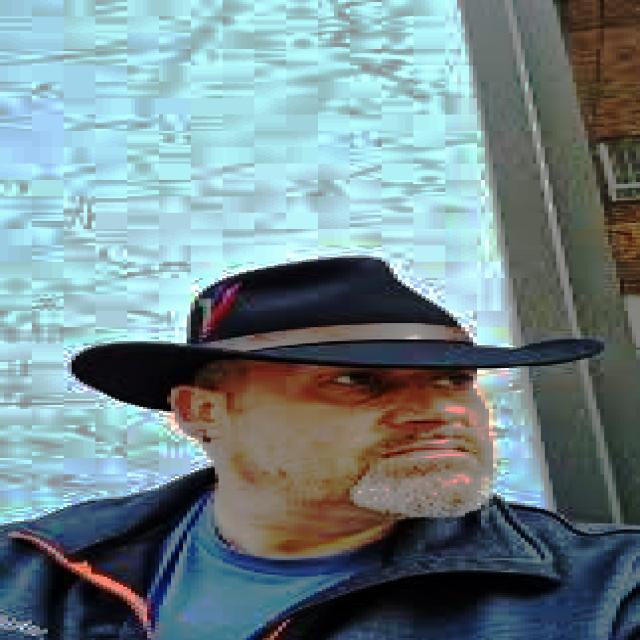TOPI: (56, 249, 612, 411)
